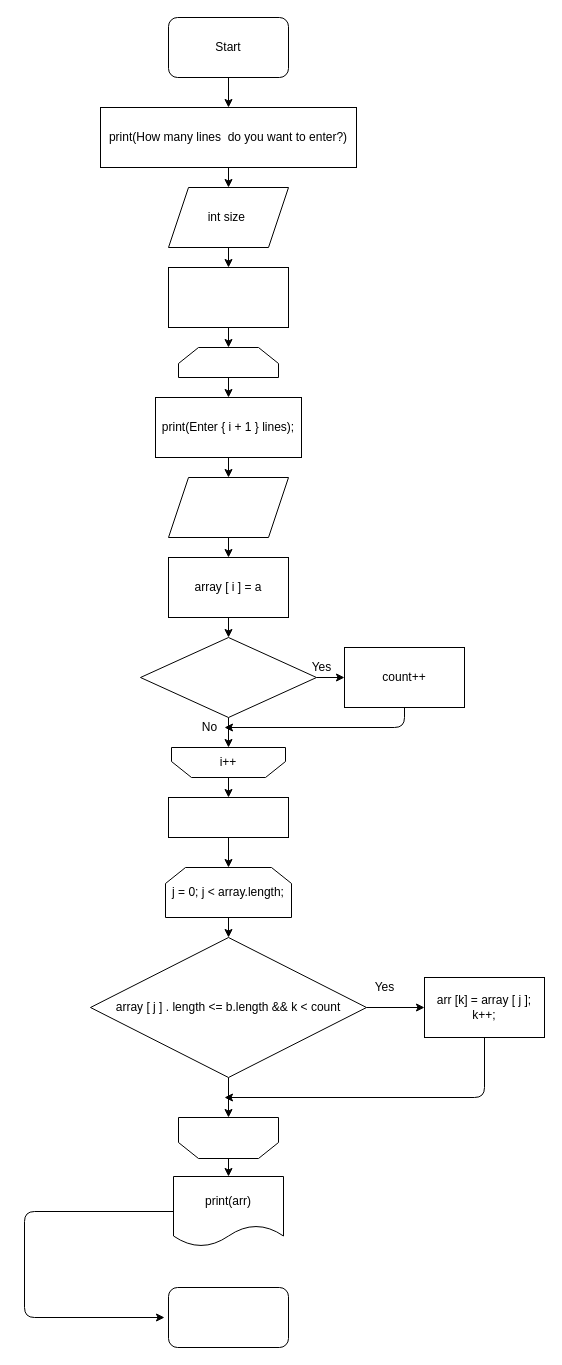
This 562x1365 diagram has some shape labels left out. Here are the shapes that lost their labels. From the top down, the centre of each, then its label:
the point at 228,297: strng b = "yes"; int count = 0; int k = 0; string array = [size];
the point at 228,362: i = 0; i < size;
the point at 228,507: string a
the point at 228,677: b.length => a.length
the point at 228,817: print (array); string arr = [count];
the point at 228,1137: j++
